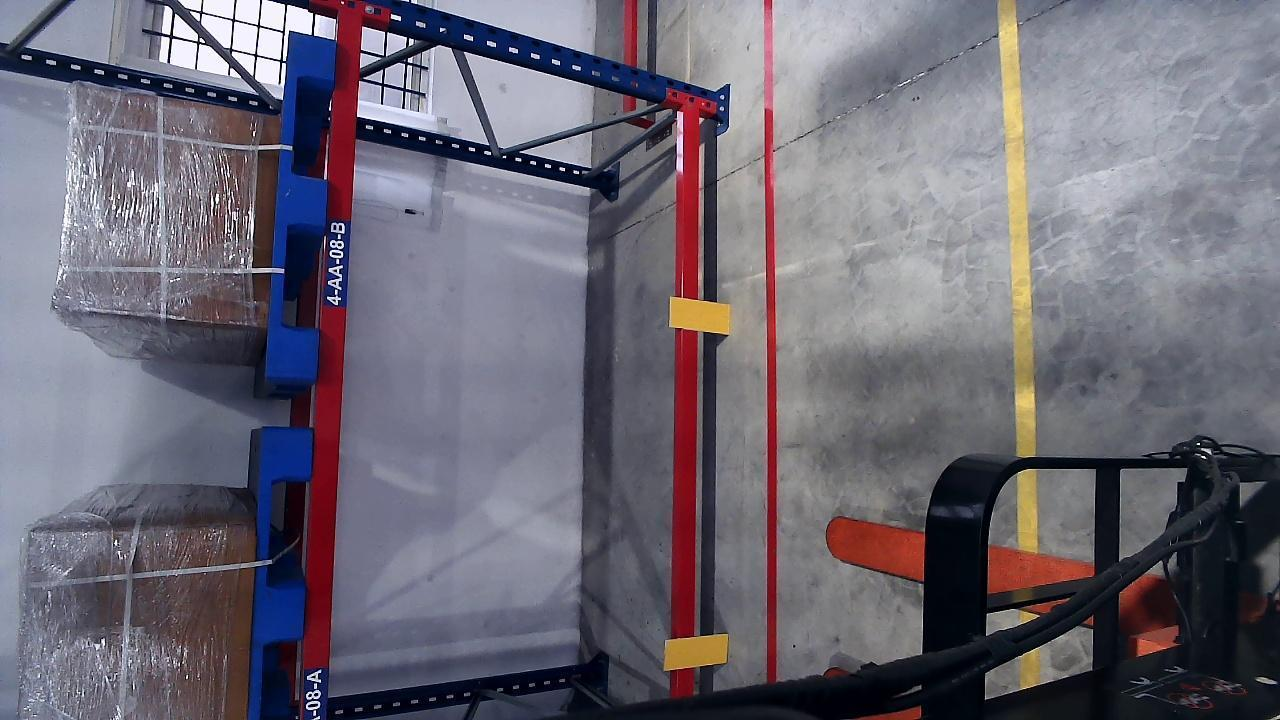red_line: (763, 0, 774, 684)
yellow_line: (996, 0, 1037, 683)
